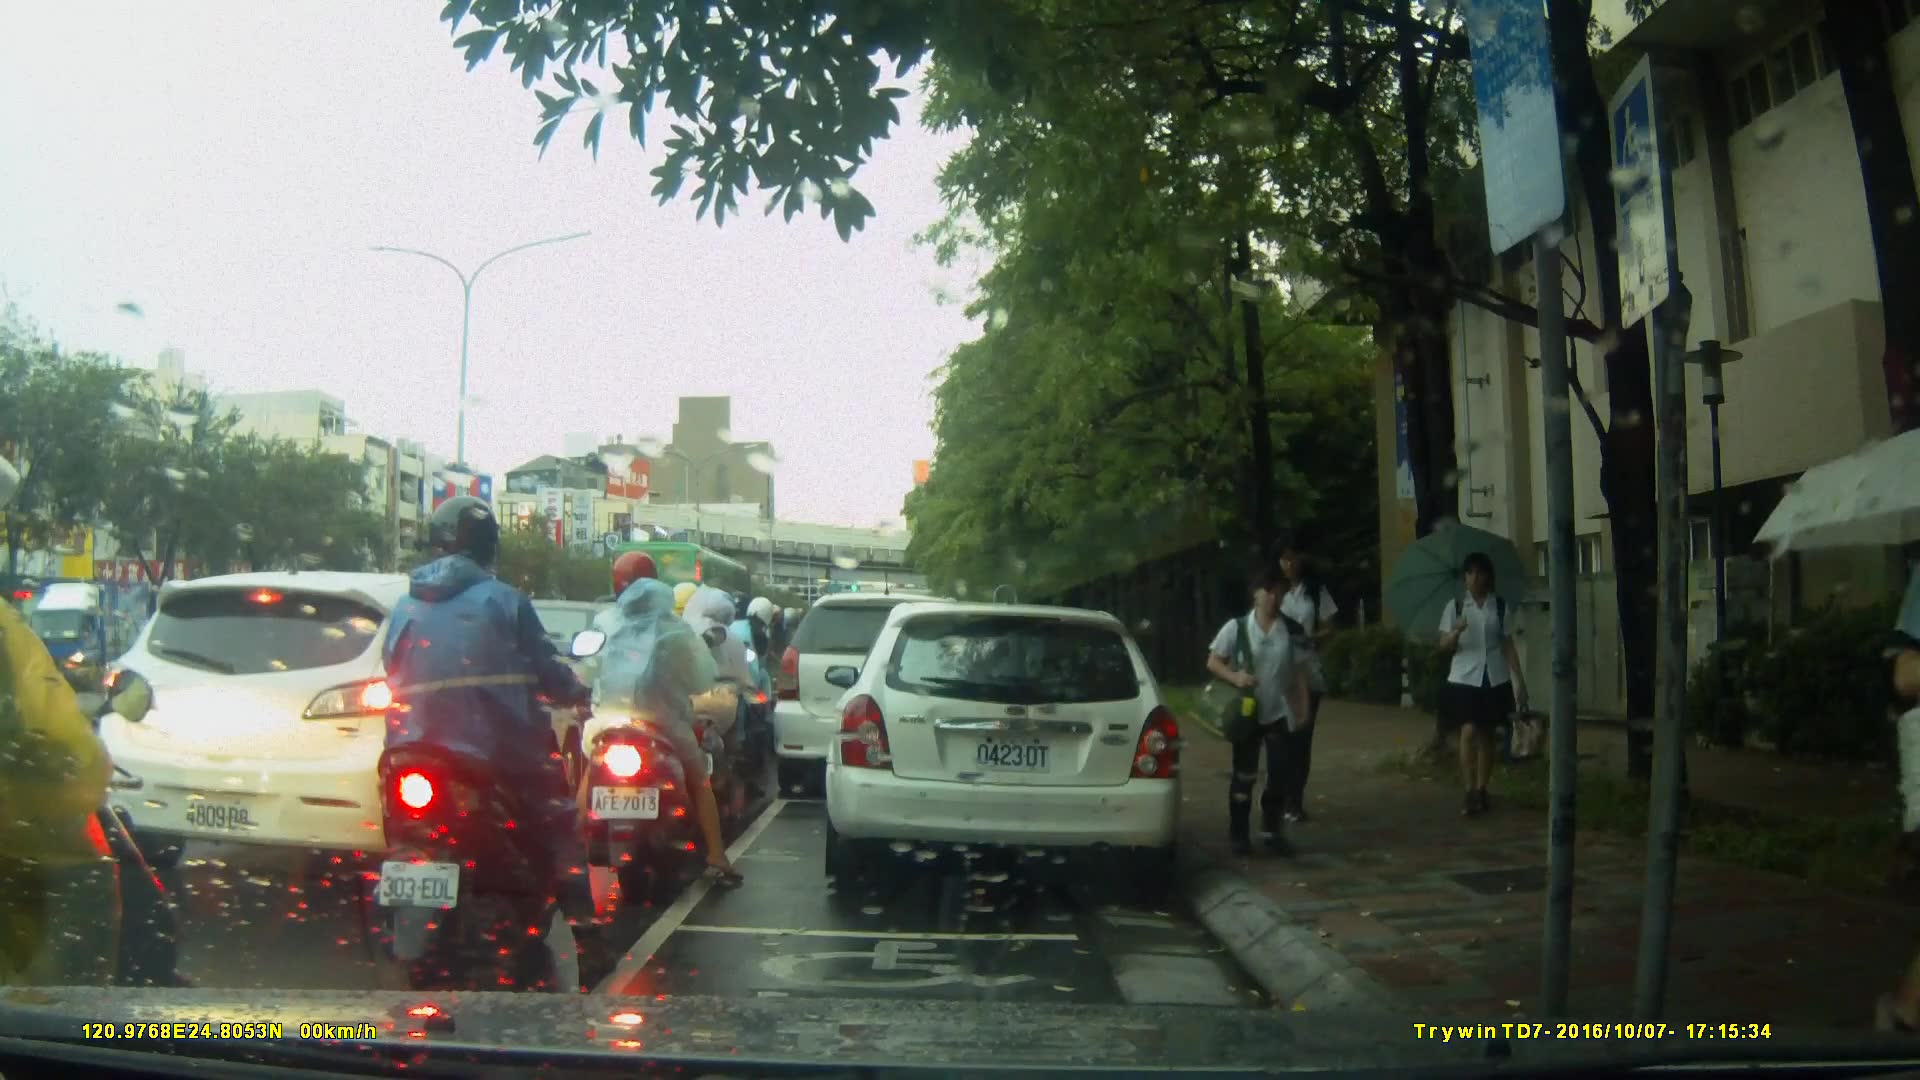pedestrian: (1205, 565, 1325, 851), (1422, 545, 1526, 824), (1256, 538, 1345, 831), (1886, 460, 1920, 1037)
rider: (377, 489, 612, 969), (1, 455, 181, 1080), (562, 554, 746, 903), (640, 578, 764, 823), (696, 594, 779, 776)
vehicle: (94, 569, 617, 883), (822, 604, 1187, 883), (774, 595, 995, 802), (20, 576, 199, 697)
